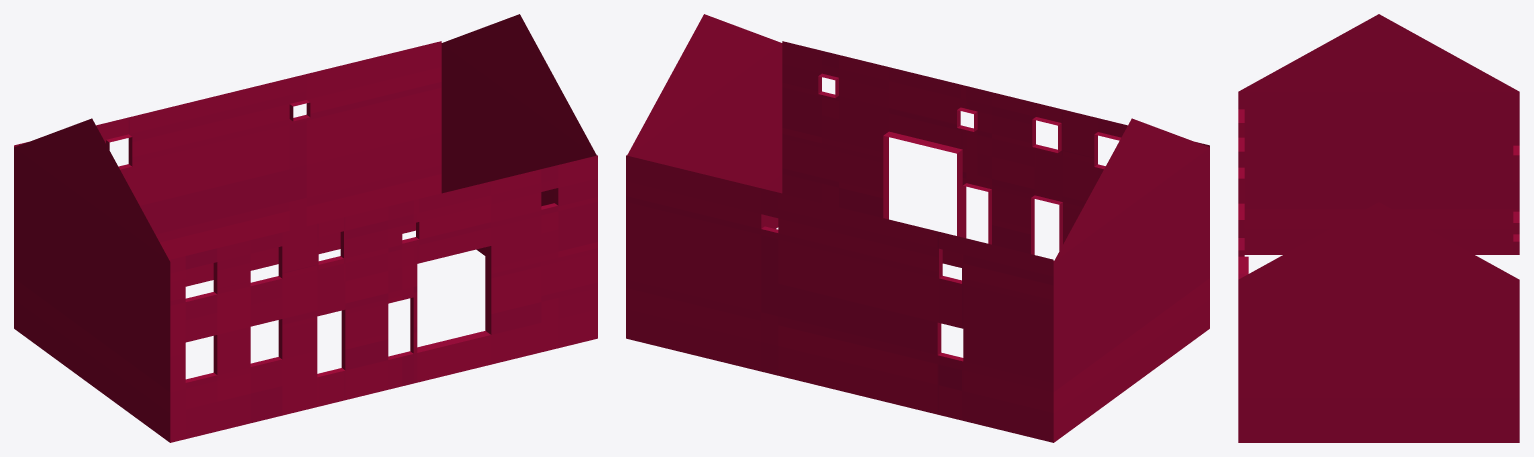
File: SM_Bld_044_Masonry.glb
The picture shows the model from 3 angles, left to right: view 1: azimuth 30°, elevation 25°; view 2: azimuth 150°, elevation 25°; view 3: azimuth 270°, elevation 25°; orthographic projection. The views are drawn at different scales.
Visible parts, largest first — view 1: SM_Bld_044_Masonry; view 2: SM_Bld_044_Masonry; view 3: SM_Bld_044_Masonry.
Boxes of the visible parts, bbox=[...] form: SM_Bld_044_Masonry: bbox=[14, 14, 597, 442]; SM_Bld_044_Masonry: bbox=[626, 14, 1209, 442]; SM_Bld_044_Masonry: bbox=[1238, 14, 1519, 442].
Bounding box in the file's own units: 15.07 × 9 × 9.53.
